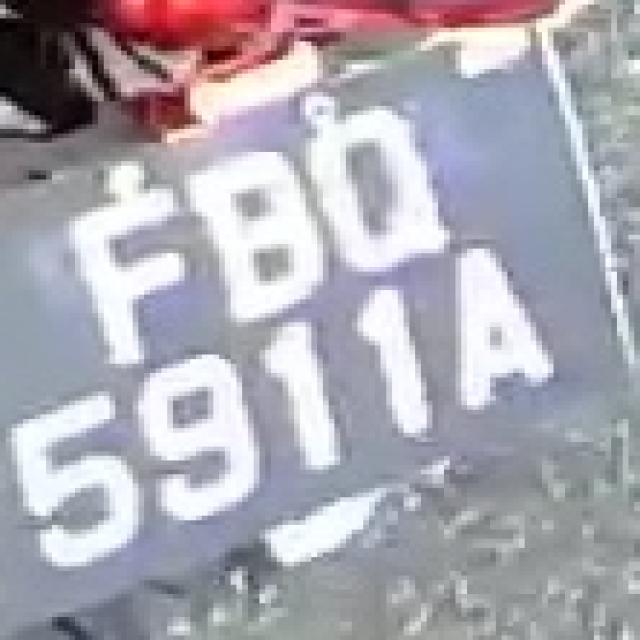1: (340, 281, 456, 451), (254, 327, 334, 493)
5: (12, 368, 132, 585)
9: (110, 350, 288, 525)
A: (421, 244, 553, 428)
B: (173, 147, 334, 336)
F: (40, 180, 214, 363)
Q: (300, 101, 496, 281)
